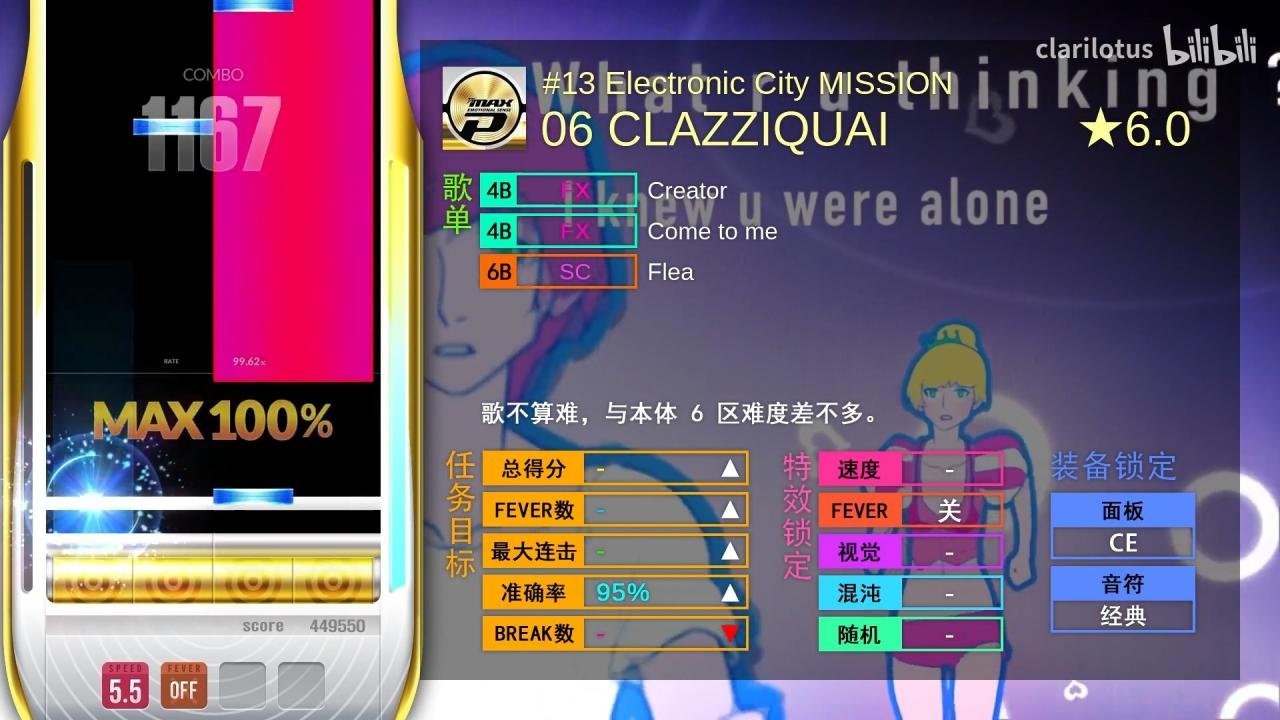note: (134, 118, 214, 135), (214, 489, 293, 506), (214, 1, 294, 13)
xstart: (212, 364, 374, 383)
